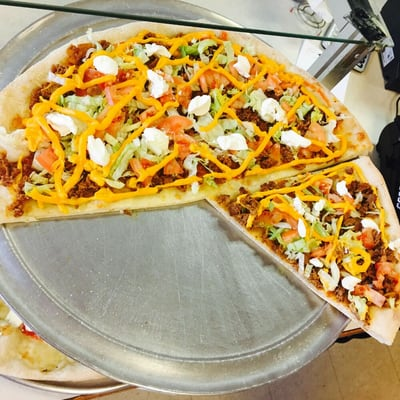curry: (0, 7, 399, 399)
sandwich: (4, 21, 399, 329), (0, 23, 364, 209)
